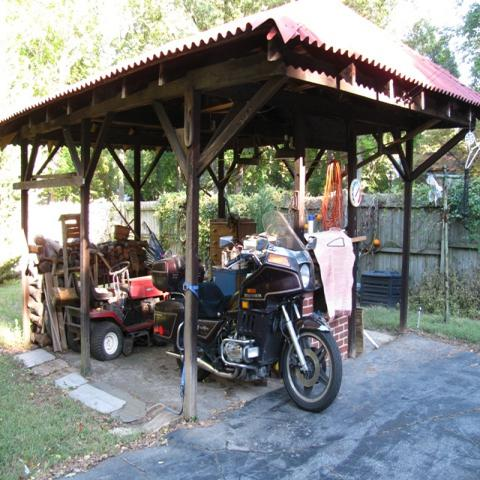motorcycle: (172, 210, 342, 412)
